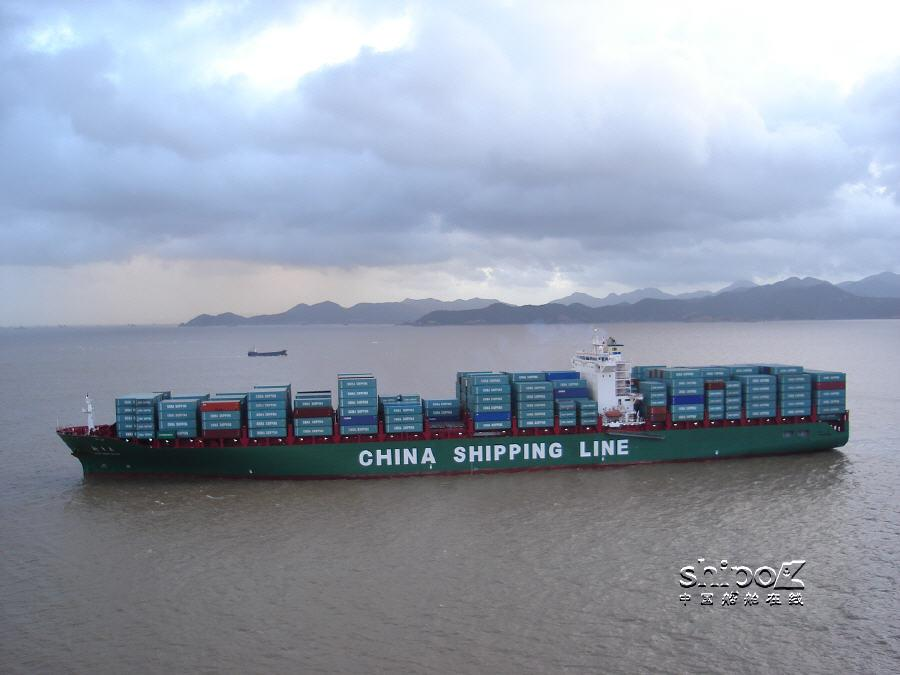Cargoship: (43, 326, 856, 484)
otherboat: (243, 346, 288, 360)
